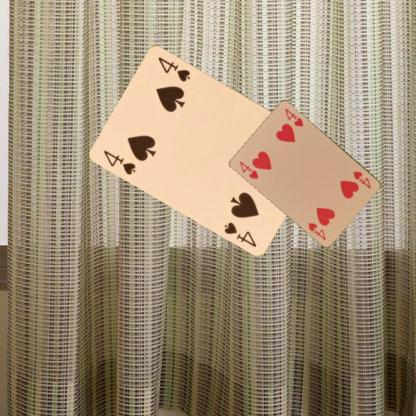4h: (237, 158, 260, 180), (350, 168, 372, 190)
4s: (101, 148, 138, 176)
